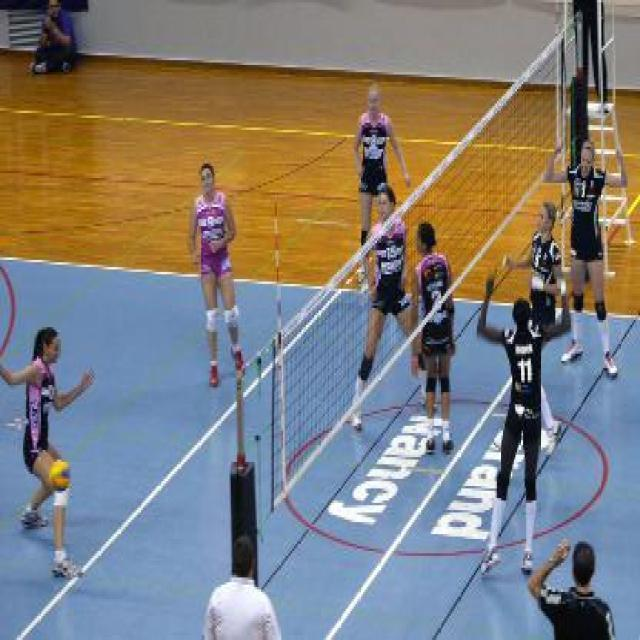volleyball: (48, 462, 72, 489)
